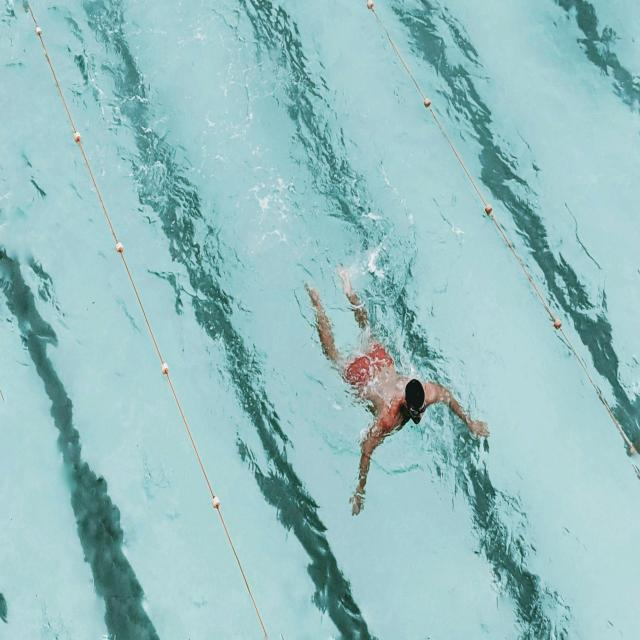lie: (306, 272, 496, 512)
